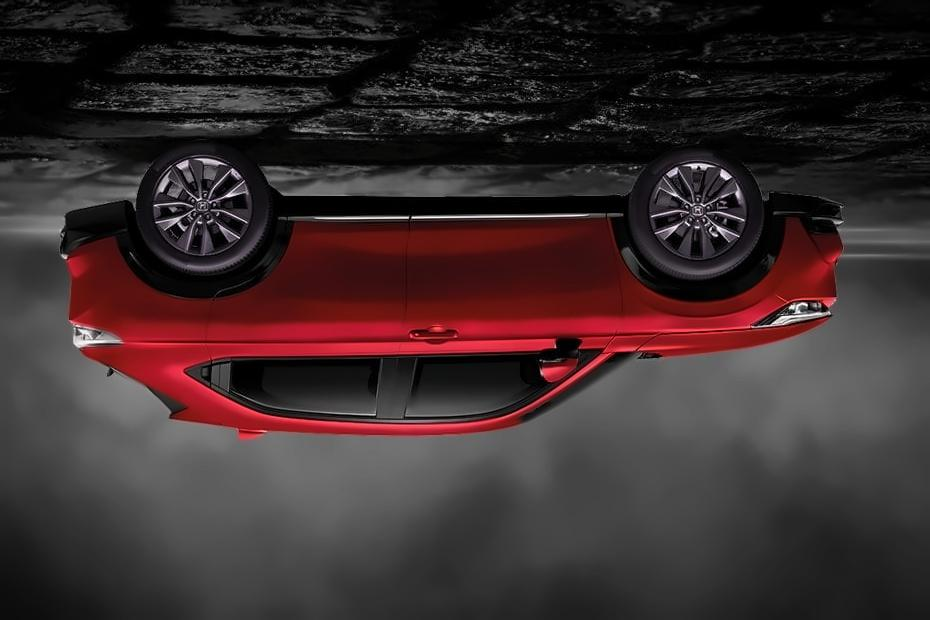Car hood: (628, 312, 837, 361)
Fender - -F-L-: (603, 195, 795, 367)
Fender - -R-L-: (125, 256, 216, 383)
Front bumper: (750, 178, 845, 304)
Headlight - -L-: (746, 292, 837, 338)
Passenger-s door - -F-L-: (403, 207, 624, 427)
Passenger-s door - -R-L-: (203, 206, 404, 428)
Rear bumper: (53, 189, 140, 335)
Rear light - -L-: (58, 313, 128, 357)
Side bumper - -L-: (270, 189, 633, 231)
Side mirror - -L-: (531, 345, 587, 391)
